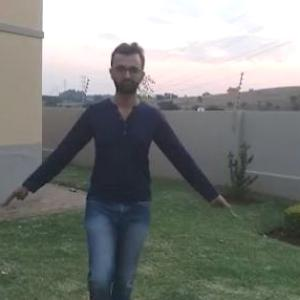land: (33, 62, 198, 284)
